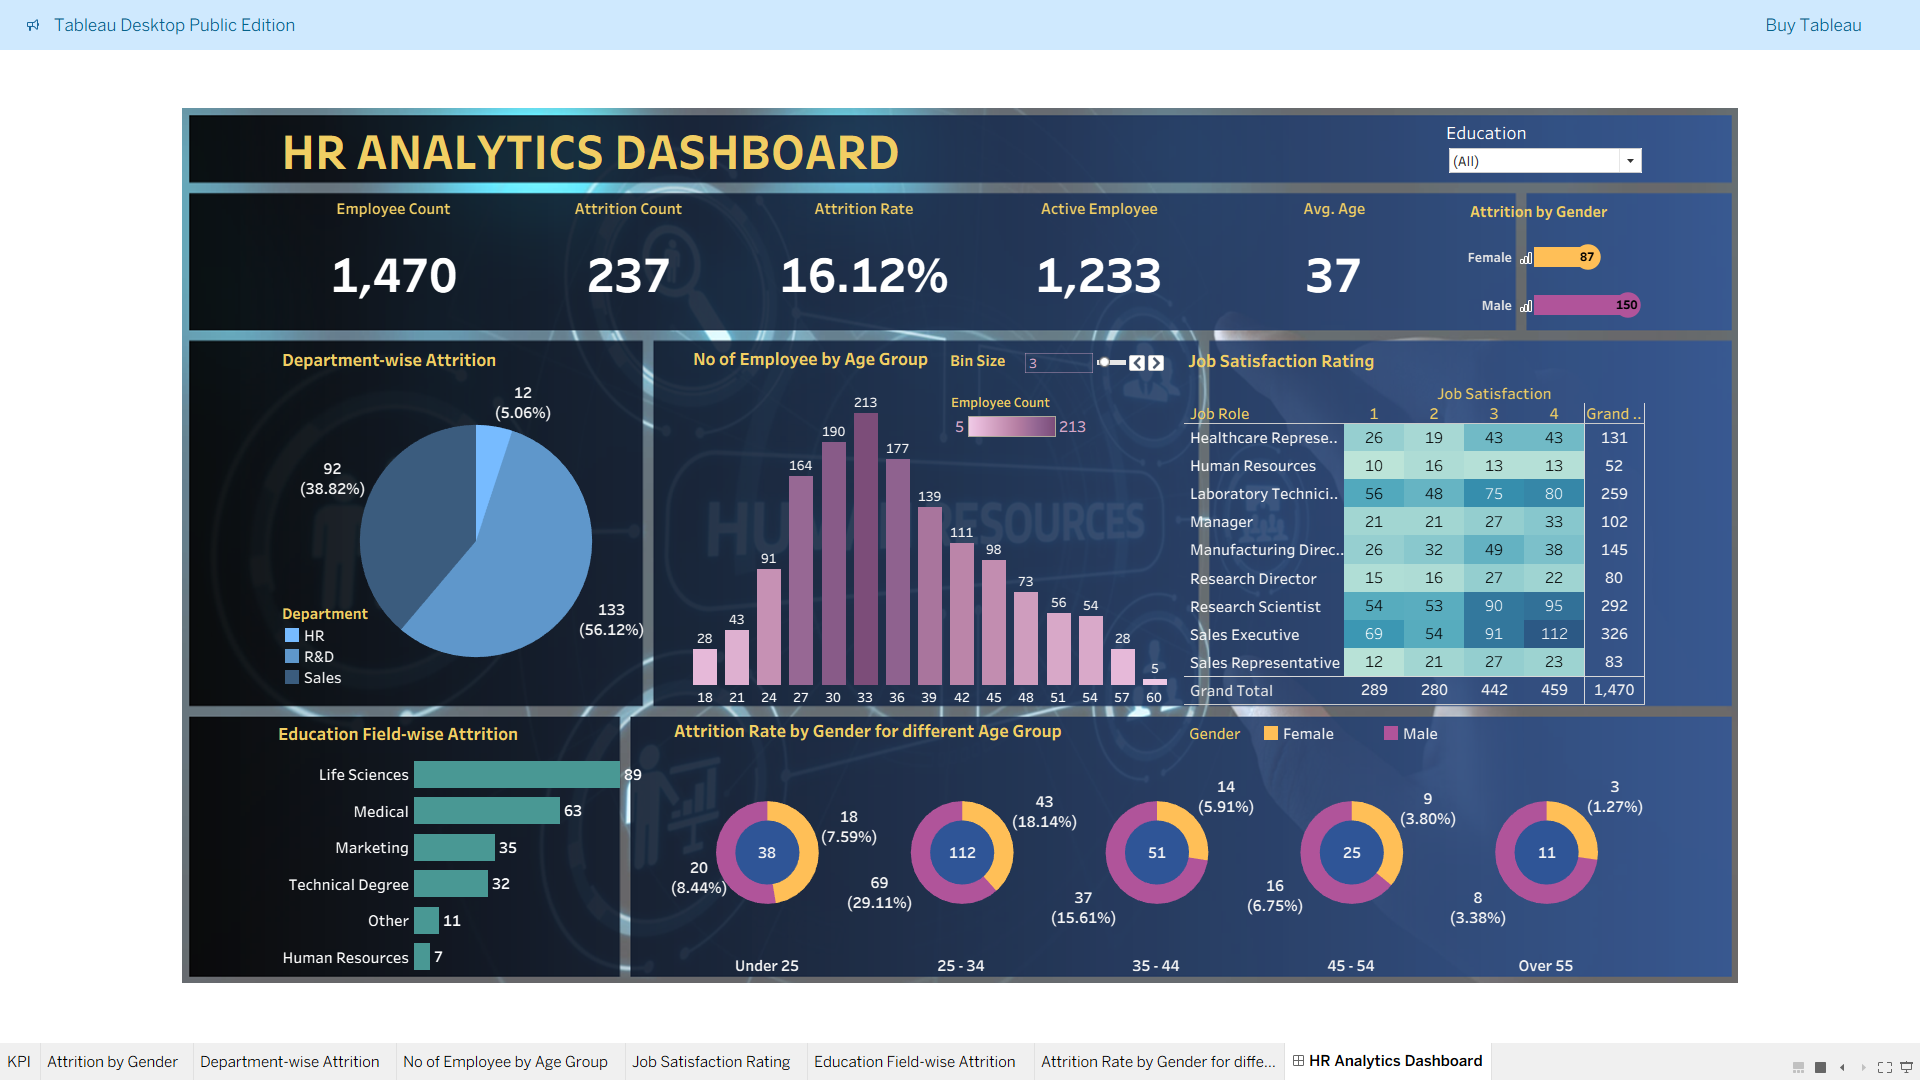

The page's visual inventory and layout, read from the dashboard file:
{"tool":"tableau","page":{"name":"HR Analytics Dashboard","canvas":[1000,1000],"units":"permille","ordinal":0},"visuals":[{"type":"image","param":"C:/Users/satya/Downloads/HR Background_Final.png","box":[5.1,10,989.9,980]},{"type":"filter","title":"No of Employee by Age Group","param":"[federated.106n9t702b04ja18q8zws0izlfom].[none:Education:nk]","box":[807.6,26.2,126,69.8]},{"type":"text","box":[68.4,28.7,862.7,62.3]},{"type":"worksheet","title":"Attrition by Gender","mark":"Automatic","rows":["Gender"],"cols":["Calculation_787848502959869952","Calculation_787848502959869952"],"box":[820.2,112.2,113.3,147.1]},{"type":"worksheet","title":"KPI","mark":"Automatic","box":[67.1,113.5,744.3,144.6]},{"type":"worksheet","title":"No of Employee by Age Group","mark":"Automatic","rows":["Employee Count"],"cols":["Age (bin)"],"box":[328.5,274.3,305.1,404]},{"type":"worksheet","title":"Department-wise Attrition","mark":"Pie","box":[68.4,275.6,250.6,395.3]},{"type":"worksheet","title":"Job Satisfaction Rating","mark":"Square","rows":["Job Role"],"cols":["Job Satisfaction"],"box":[641.8,276.8,291.8,400.2]},{"type":"parameter","param":"[Parameters].[Parameter 1]","box":[493.7,281.8,137.3,48.6]},{"type":"legend","title":"No of Employee by Age Group","param":"[federated.106n9t702b04ja18q8zws0izlfom].[sum:Employee Count:qk]","box":[494.3,330.4,88.6,76.1]},{"type":"legend","title":"Department-wise Attrition","param":"[federated.106n9t702b04ja18q8zws0izlfom].[none:Department:nk]","box":[70.9,563.6,63.9,106]},{"type":"worksheet","title":"Attrition Rate by Gender for different Age Group ","mark":"Pie","rows":["Calculation_961800038806282241","Calculation_961800038806282241"],"cols":["CF_age band"],"box":[316.5,688.3,616.5,289.3]},{"type":"worksheet","title":"Education Field-wise Attrition","mark":"Automatic","rows":["Education Field"],"cols":["Calculation_787848502959869952"],"box":[65.8,690.8,242.4,285.5]},{"type":"legend","title":"Attrition Rate by Gender for different Age Group ","param":"[federated.106n9t702b04ja18q8zws0izlfom].[none:Gender:nk]","box":[644.9,697,222.2,31.2]}]}

Visuals, with their boxes on the dashboard's canvas, which has no fixed pixel size, in thousandths of its width and height (x1, y1, x2, y2). These are canvas units, not pixel positions in the 1920x1080 screenshot, which may show the page scaled, cropped or inside an application window:
image: pyautogui.locateOnScreen(5, 10, 995, 990)
"No of Employee by Age Group" filter: pyautogui.locateOnScreen(808, 26, 934, 96)
text: pyautogui.locateOnScreen(68, 29, 931, 91)
"Attrition by Gender" worksheet: pyautogui.locateOnScreen(820, 112, 934, 259)
"KPI" worksheet: pyautogui.locateOnScreen(67, 114, 811, 258)
"No of Employee by Age Group" worksheet: pyautogui.locateOnScreen(328, 274, 634, 678)
"Department-wise Attrition" worksheet (Pie marks): pyautogui.locateOnScreen(68, 276, 319, 671)
"Job Satisfaction Rating" worksheet (Square marks): pyautogui.locateOnScreen(642, 277, 934, 677)
parameter: pyautogui.locateOnScreen(494, 282, 631, 330)
"No of Employee by Age Group" legend: pyautogui.locateOnScreen(494, 330, 583, 406)
"Department-wise Attrition" legend: pyautogui.locateOnScreen(71, 564, 135, 670)
"Attrition Rate by Gender for different Age Group " worksheet (Pie marks): pyautogui.locateOnScreen(316, 688, 933, 978)
"Education Field-wise Attrition" worksheet: pyautogui.locateOnScreen(66, 691, 308, 976)
"Attrition Rate by Gender for different Age Group " legend: pyautogui.locateOnScreen(645, 697, 867, 728)
